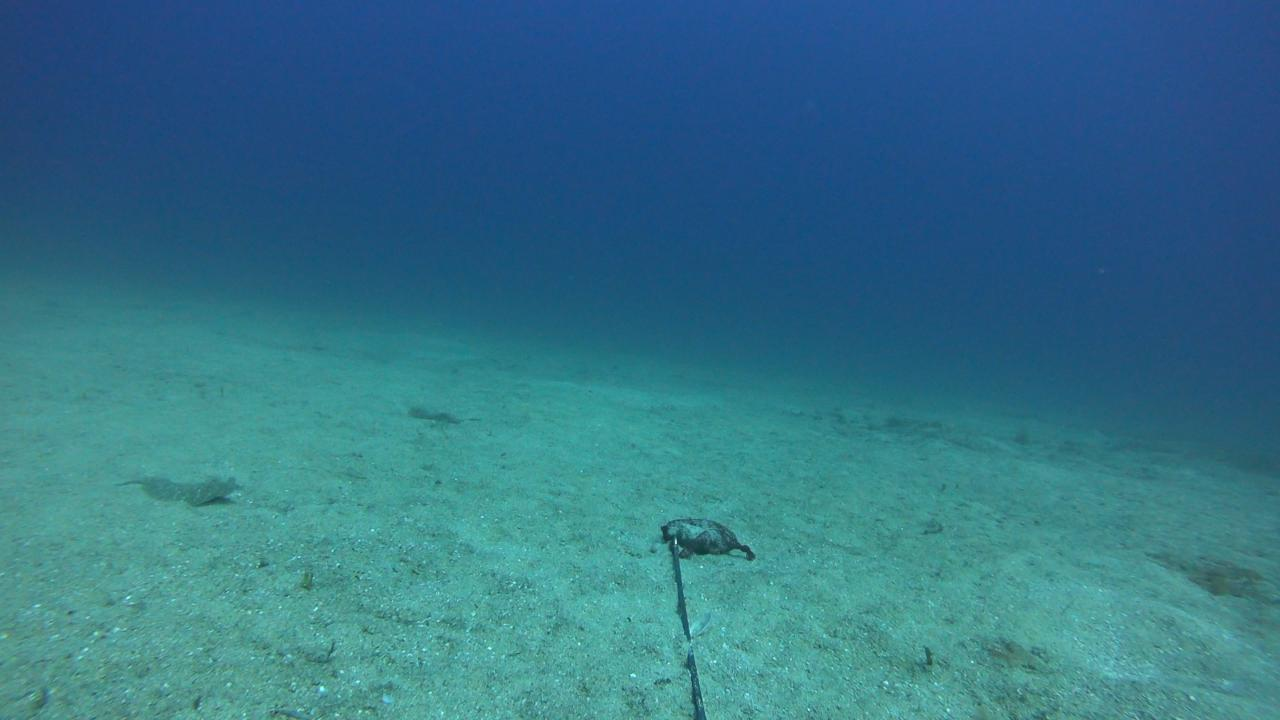bothus: (111, 466, 252, 513)
